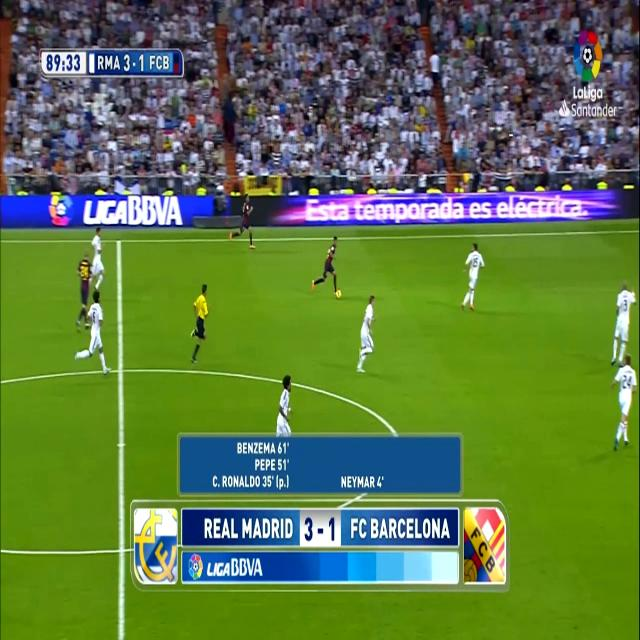bigarea_bottom_inner: (500, 573, 511, 599)
halfcircle_bottom: (114, 528, 130, 569)
halfcircle_top: (112, 350, 130, 390)
midline_bottom_intersection: (114, 528, 130, 570)
